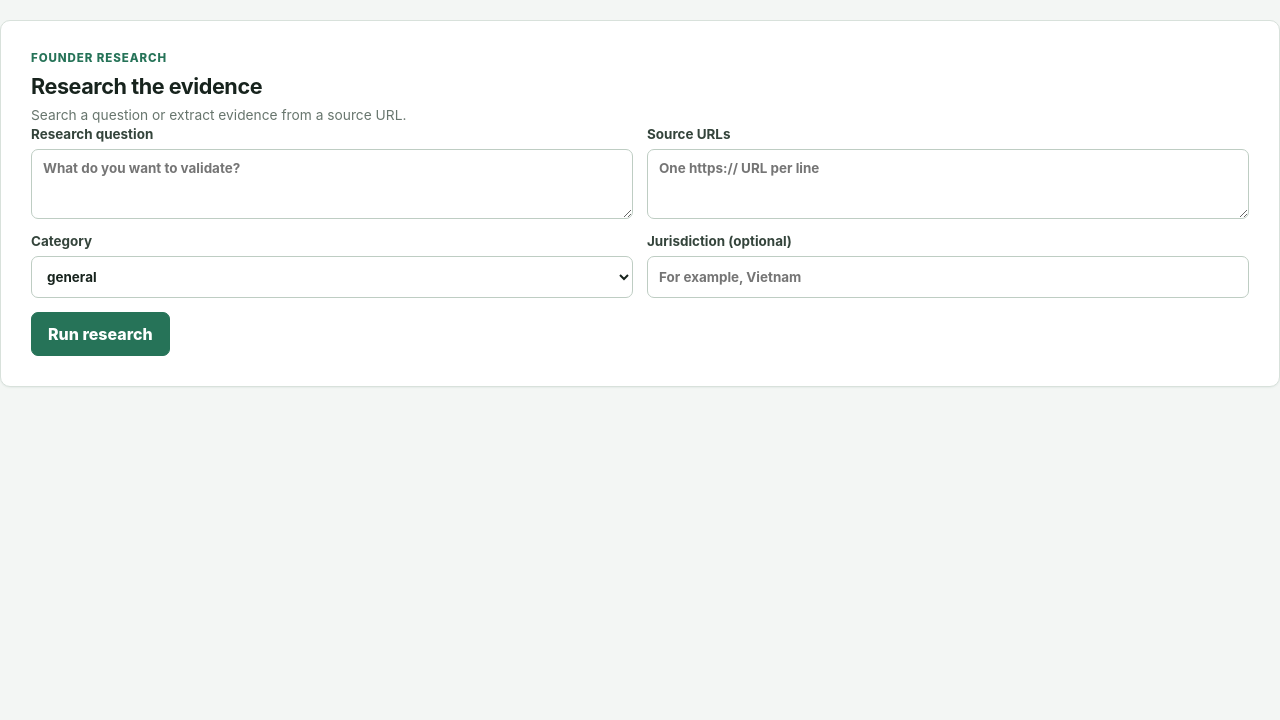
Test: ResearchPanel › submits a typed query and renders returned evidence
Type "market size" into the text box labelled "Research question" at (332, 184), box [31,149,633,219]
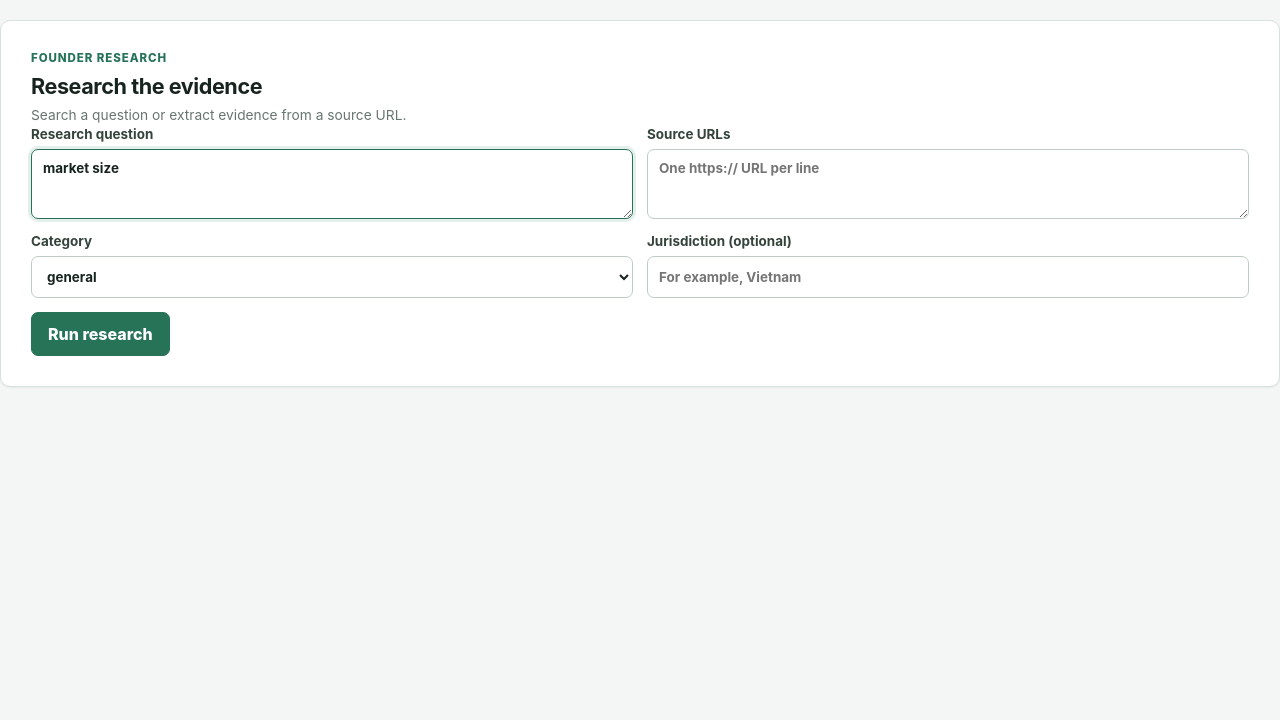
Click the button "Run research" at (100, 334), box [31,312,170,356]
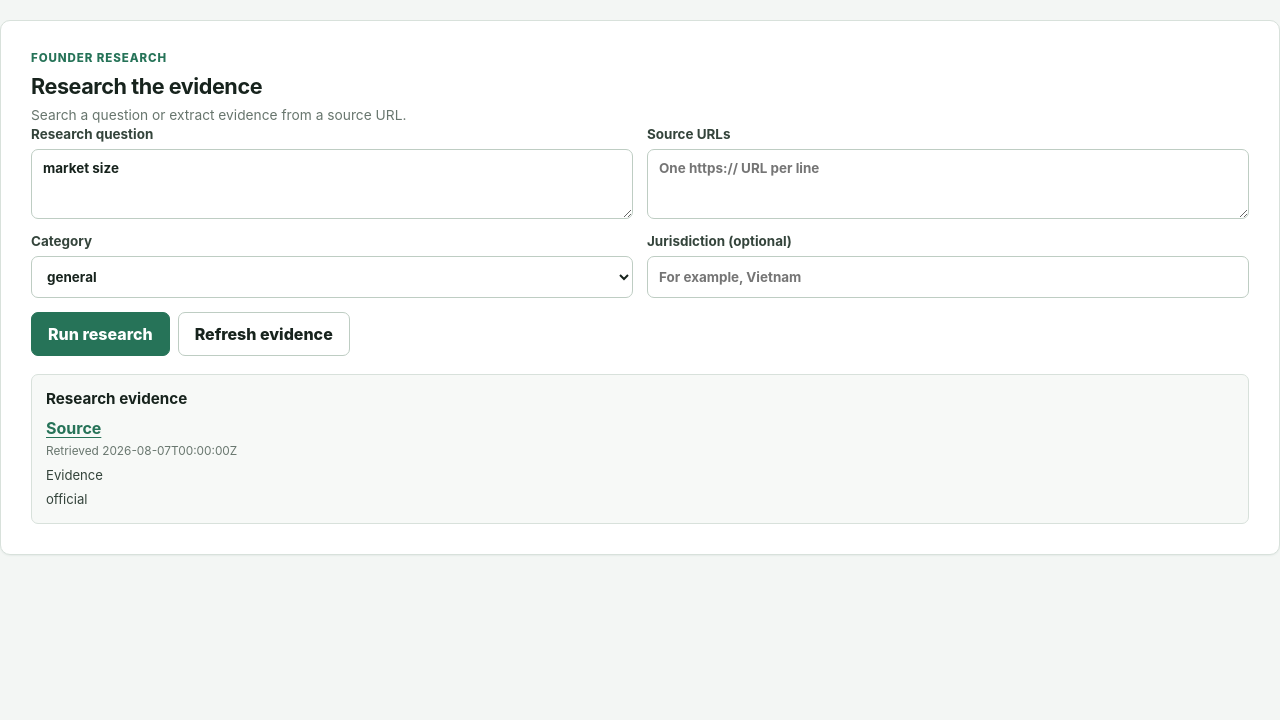
Check: the link "Source" is shown, box [46,418,101,438]
